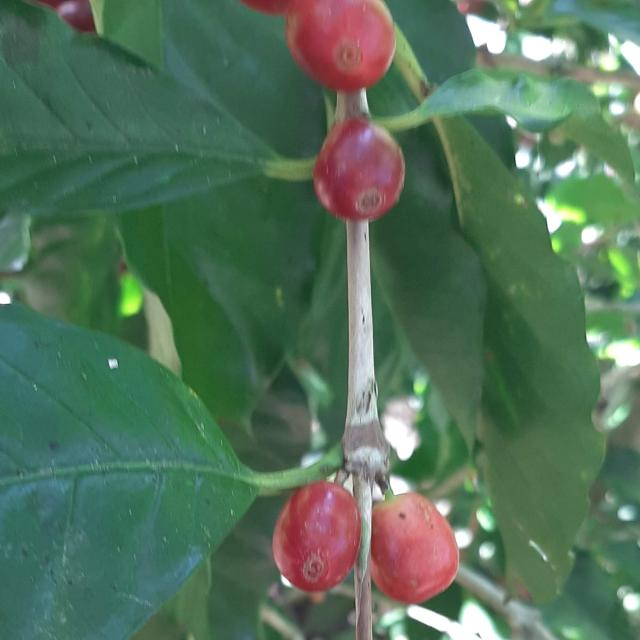Ripe: (285, 0, 396, 91), (371, 493, 460, 605), (273, 481, 361, 593), (313, 117, 405, 220)
